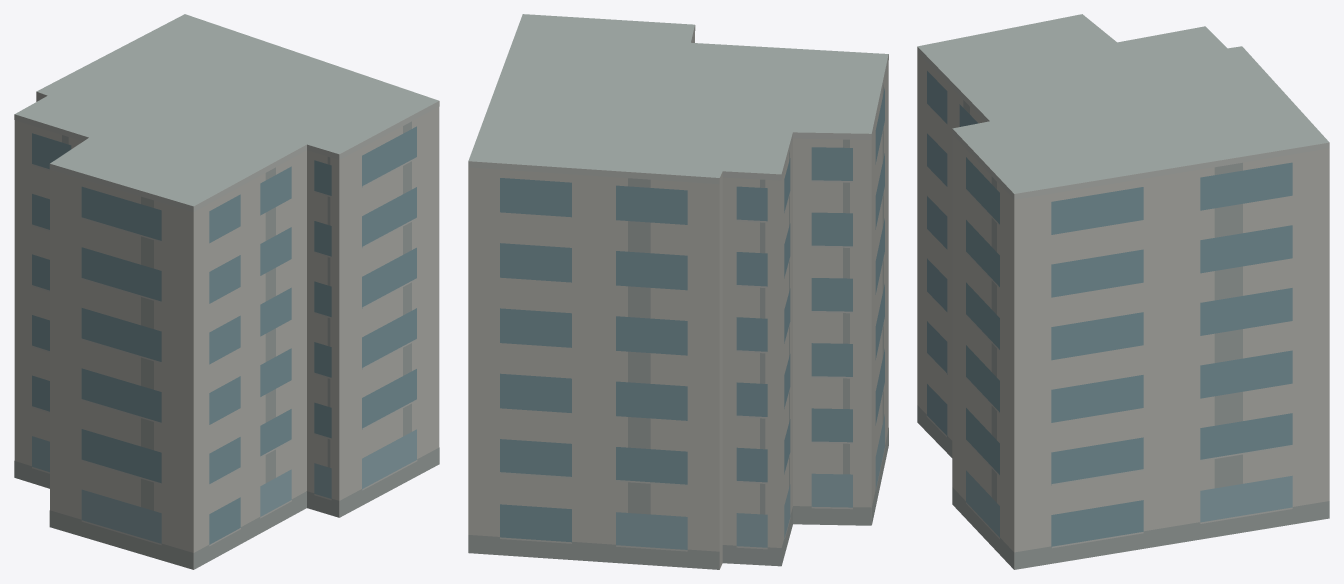
The model's file is survey-upis-32848831.glb.
The picture shows the model from 3 angles, left to right: view 1: azimuth 30°, elevation 25°; view 2: azimuth 150°, elevation 25°; view 3: azimuth 270°, elevation 25°; orthographic projection. The views are drawn at different scales.
Parts seen in each view (by area): view 1: survey-upis-32848831.tmp; view 2: survey-upis-32848831.tmp; view 3: survey-upis-32848831.tmp.
Part boxes in pixels (box(x1,y1,x2,y2)): survey-upis-32848831.tmp: box(14, 14, 439, 569); survey-upis-32848831.tmp: box(468, 14, 888, 569); survey-upis-32848831.tmp: box(917, 14, 1329, 569).
Bounding box in the file's own units: 15.67 × 15.25 × 15.17.
